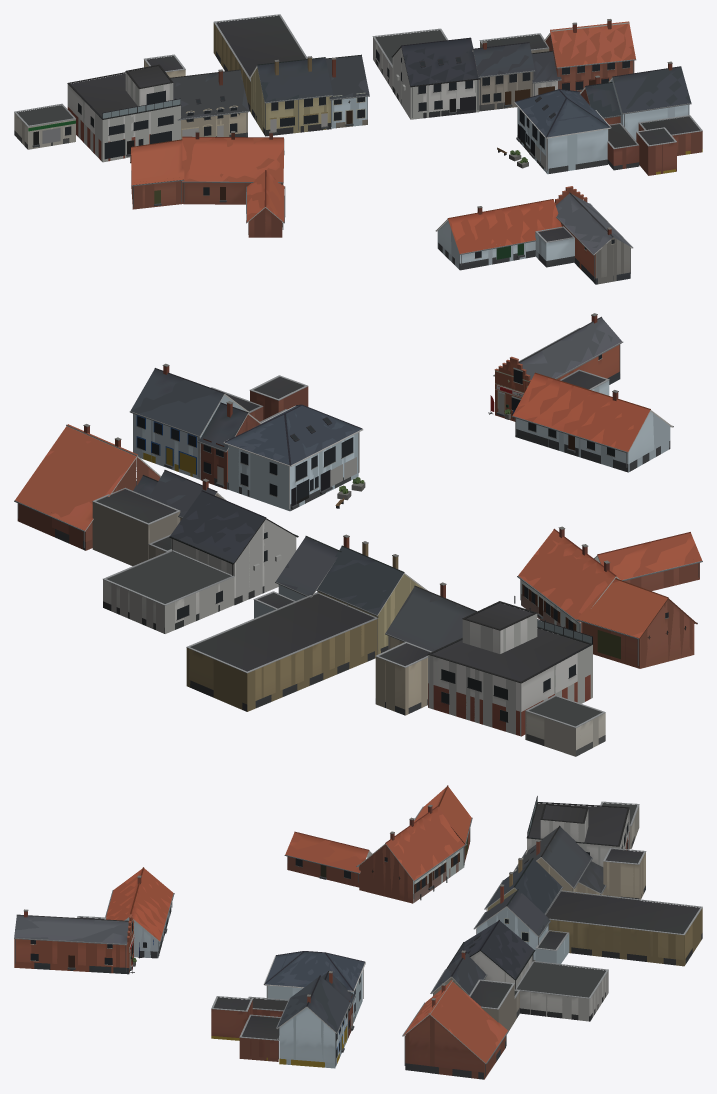
Rendered from town.glb.
3 views of the same model, one above another, from view 1: azimuth 30°, elevation 25°; view 2: azimuth 150°, elevation 25°; view 3: azimuth 270°, elevation 25° (orthographic). The views are drawn at different scales.
Parts seen in each view (by area): view 1: near_roof, near_render, far_roof, far_render, near_brick, near_trim, far_brick, near_glass; view 2: far_roof, far_render, near_render, near_roof, far_brick, near_brick, near_trim; view 3: far_roof, near_render, near_roof, near_brick, far_brick, far_render, near_trim.
Part boxes in pixels (x1,y1,x2,y2): near_roof: (131, 21, 690, 253); near_render: (14, 15, 702, 284); far_roof: (131, 22, 691, 253); far_render: (17, 30, 629, 284); near_brick: (67, 21, 690, 277); near_trim: (14, 14, 702, 279); far_brick: (131, 23, 702, 269); near_glass: (102, 57, 554, 118); far_roof: (15, 318, 702, 635); far_render: (92, 354, 668, 756); near_render: (55, 313, 670, 756); near_roof: (45, 318, 694, 651); far_brick: (17, 316, 699, 711); near_brick: (52, 315, 699, 736); near_trim: (14, 316, 702, 728); far_roof: (15, 786, 605, 1062); near_render: (23, 803, 702, 1079); near_roof: (14, 789, 603, 1046); near_brick: (15, 819, 692, 1072); far_brick: (14, 806, 702, 1079); far_render: (30, 803, 643, 1057); near_trim: (14, 785, 702, 1076).
Size of the model in its own units: 92.57 by 12.14 by 104.
